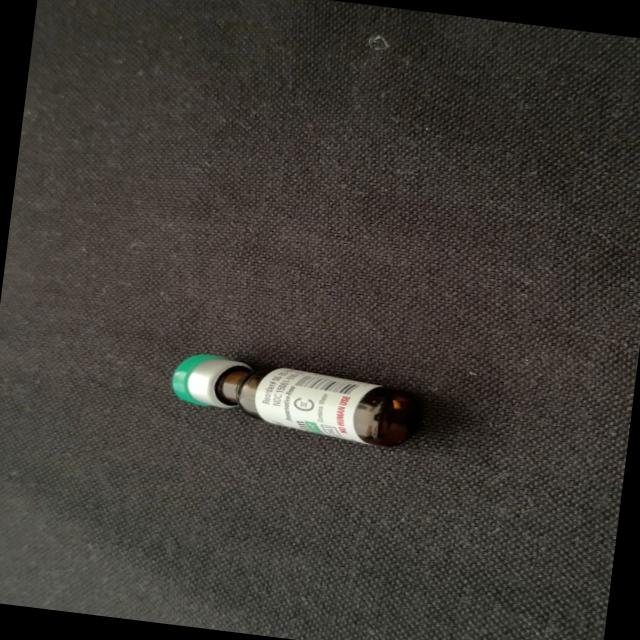midazolm: (171, 350, 419, 448)
